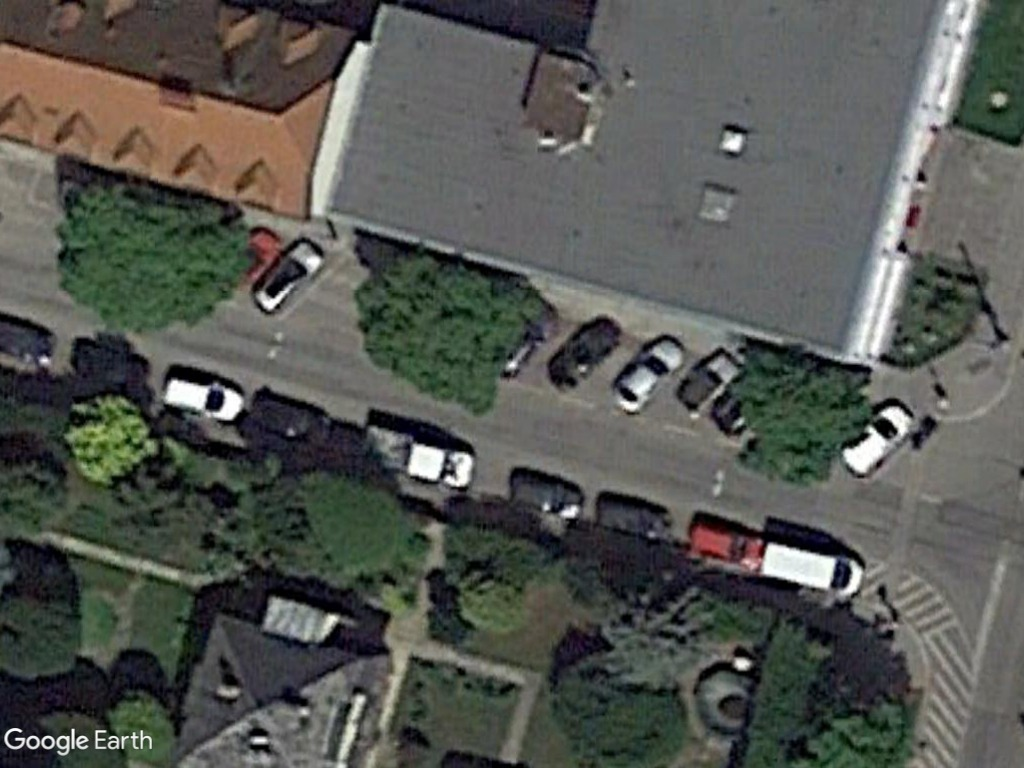car: (602, 333, 694, 417), (687, 505, 770, 573)
van: (757, 533, 866, 607), (833, 398, 918, 475), (159, 363, 246, 428)
